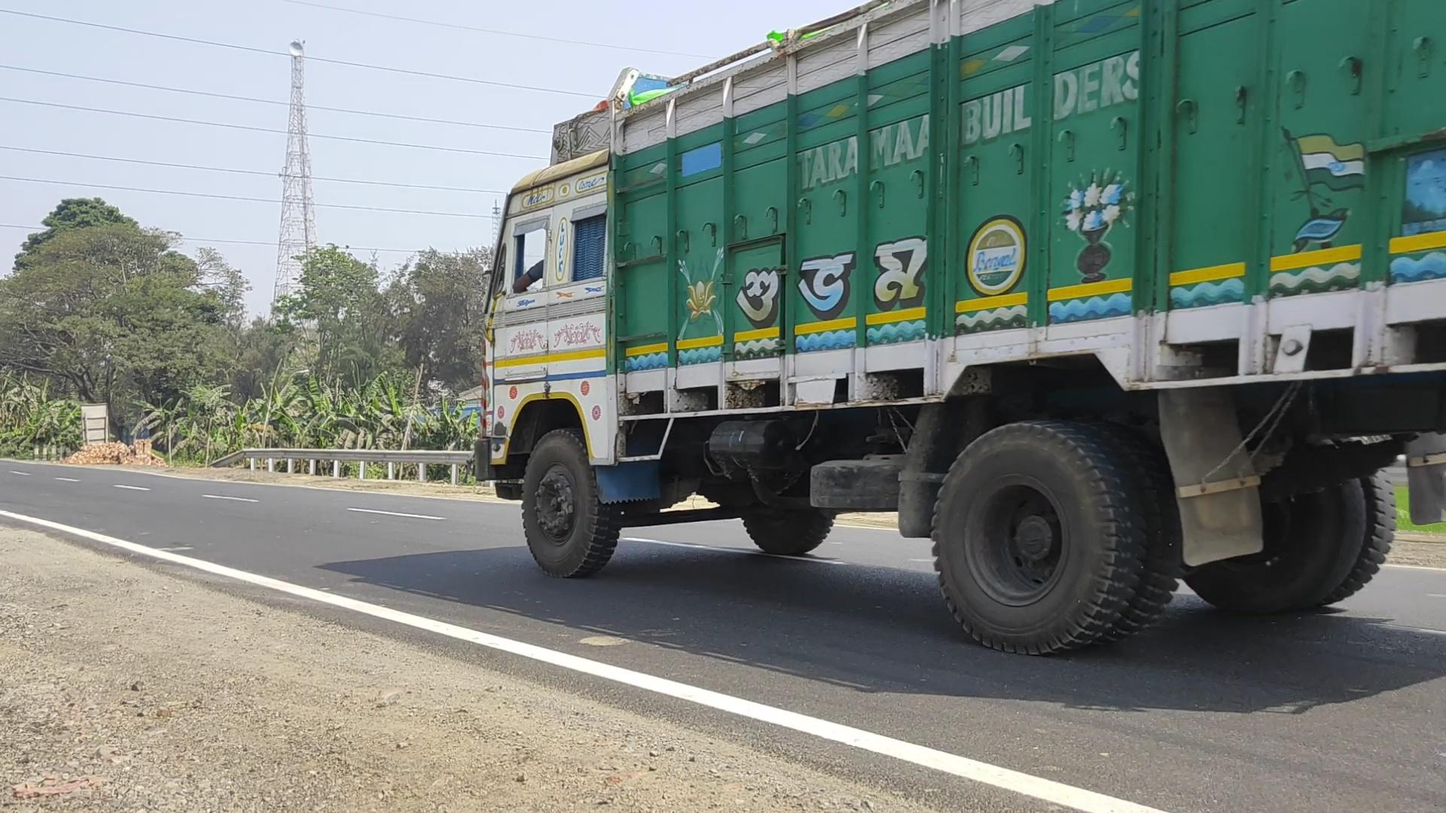truck: (473, 6, 1446, 659)
